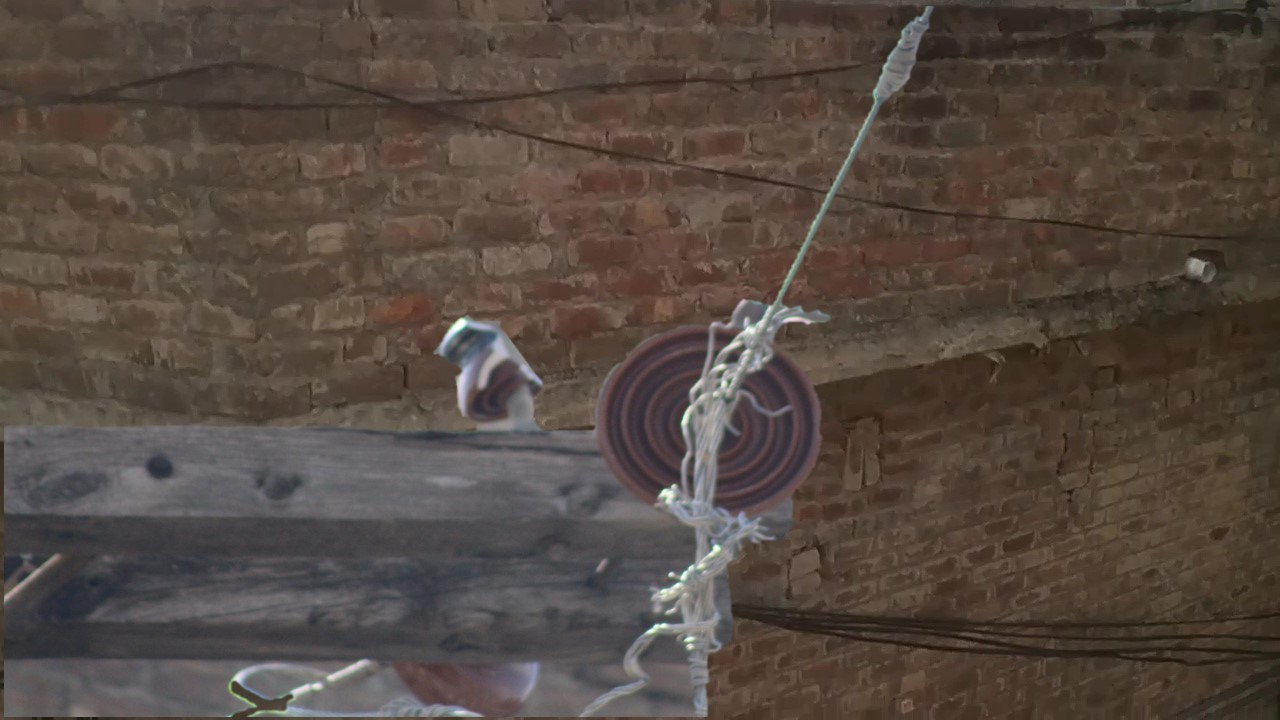defect_pin: (433, 309, 546, 433)
insulator_disc: (593, 317, 831, 523)
